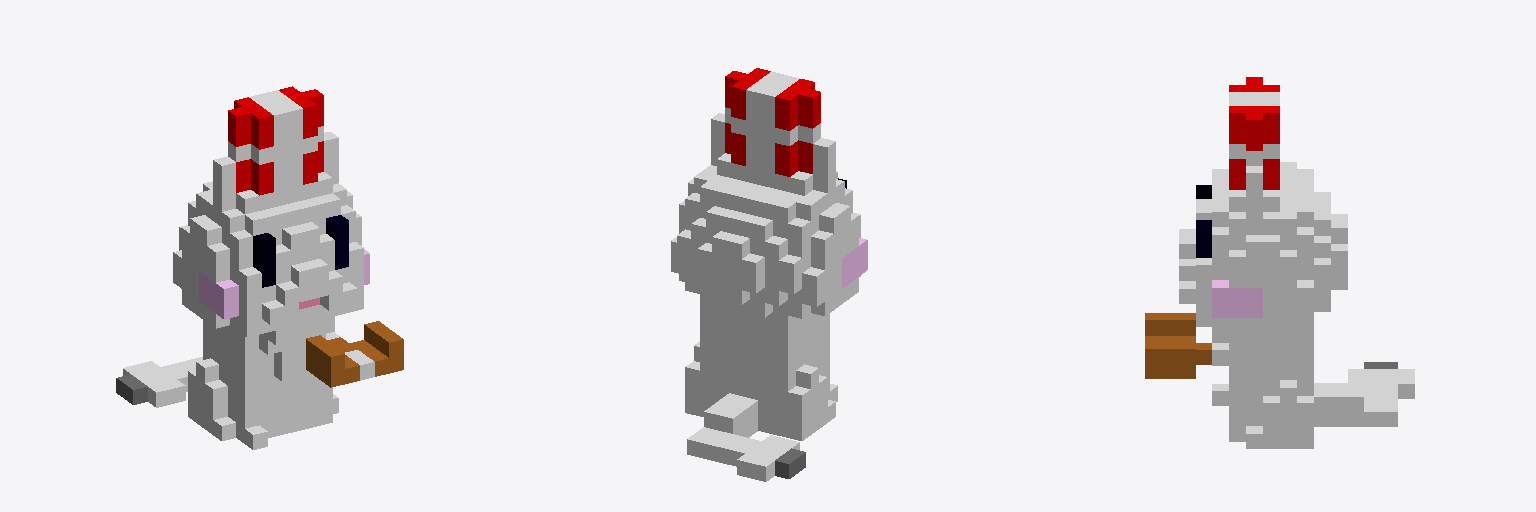
3 renders of one model, left to right at view 1: azimuth 30°, elevation 25°; view 2: azimuth 150°, elevation 25°; view 3: azimuth 270°, elevation 25°, orthographic.
Visible parts, largest first — view 1: object 1; view 2: object 1; view 3: object 1.
Boxes of the visible parts, box(x1,y1,x2,y2) form: object 1: box(116, 86, 403, 449); object 1: box(671, 68, 867, 481); object 1: box(1145, 77, 1414, 448).
Bounding box in the file's own units: 1.1 × 2.1 × 1.6.
1 materials, 1 textured.